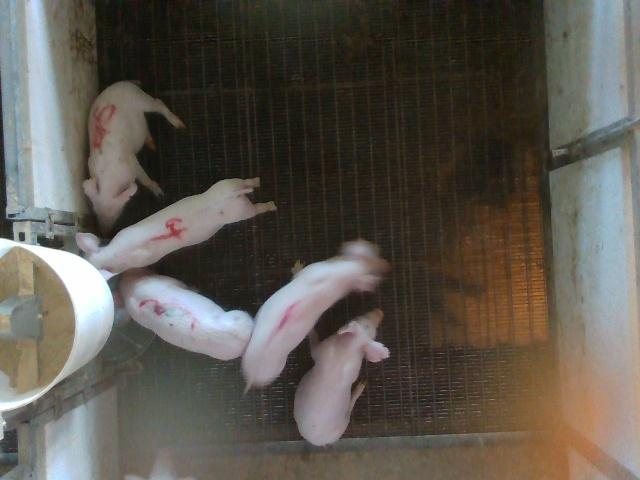pig-1: (242, 239, 390, 392)
pig-3: (120, 269, 254, 359)
pig-4: (76, 178, 276, 274)
pig-5: (82, 81, 185, 233)
